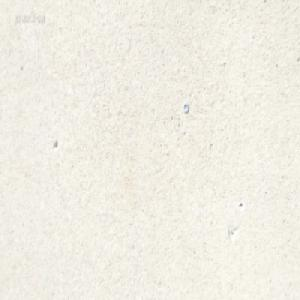Washer: (183, 102, 189, 115)
